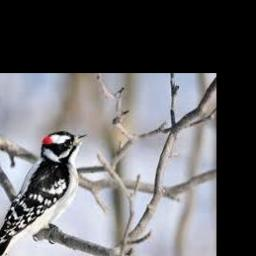Woodpecker: (0, 131, 90, 256)
